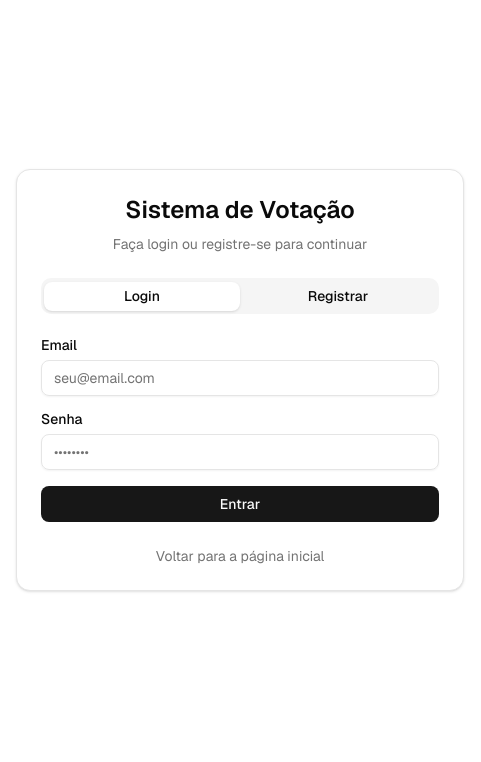
Scenario: Authentication Flow › Register › validates register form fields
The width and height of the screenshot is (481, 762).
What coordinates should you click on to do the following:
click the tab "Registrar"
I would click on:
 (338, 296)
Its box is [240,282,436,310].
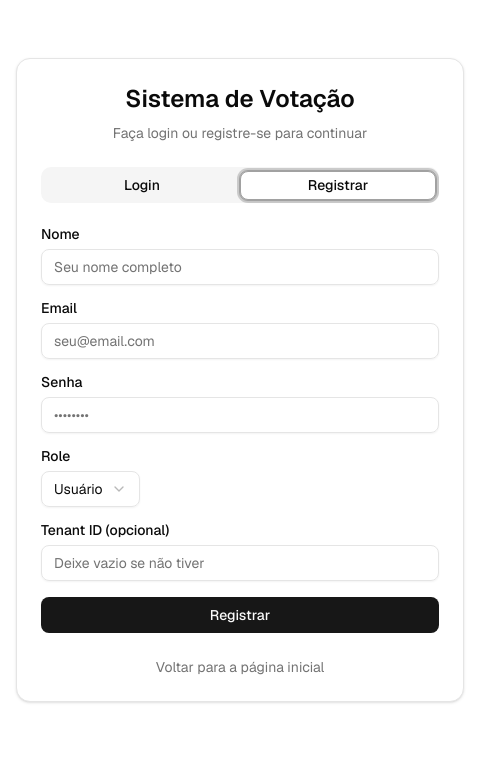
What coordinates should you click on to do the following:
click the button "Registrar"
I would click on:
 (240, 615)
Its box is [41,597,439,633].
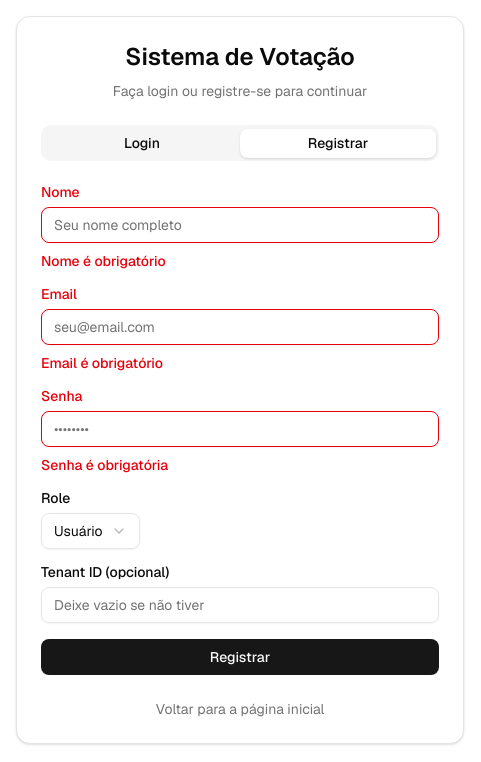
Result: the text "Nome é obrigatório" is shown at [41,252,166,270]
Result: the text "Email é obrigatório" is shown at [41,354,163,372]
Result: the text "Senha é obrigatória" is shown at [41,456,168,474]
